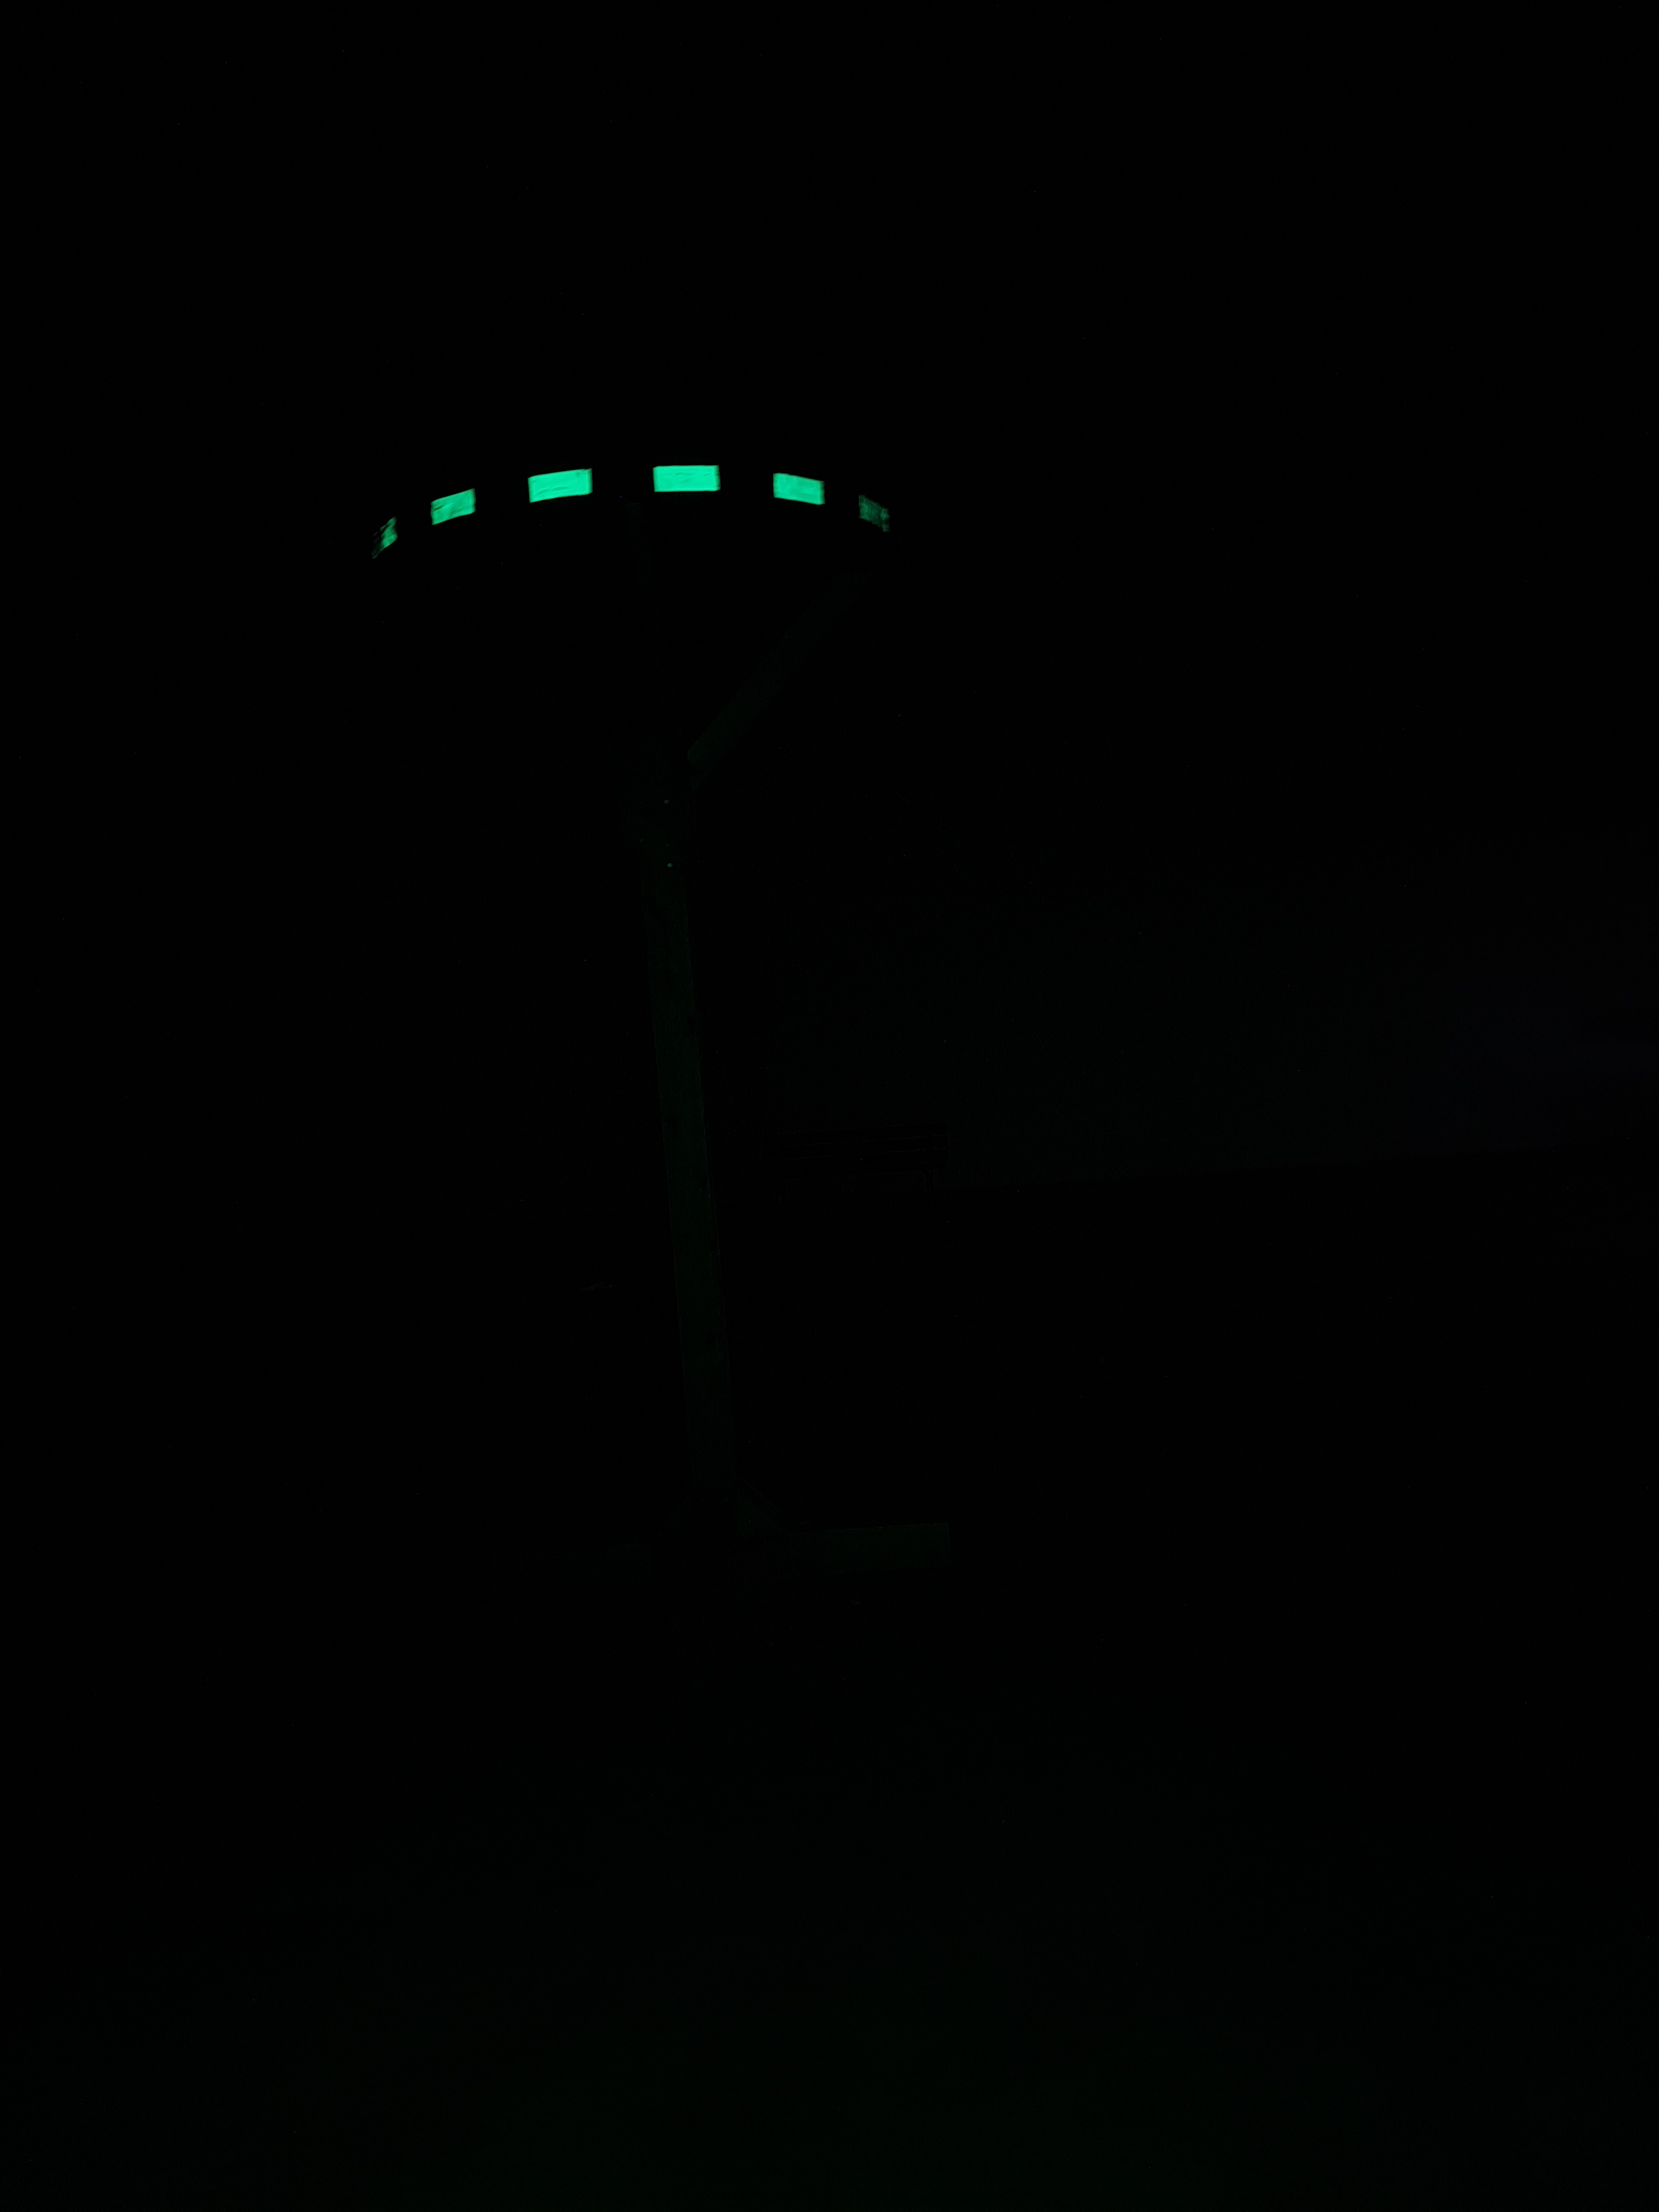hoop: (361, 456, 901, 571)
